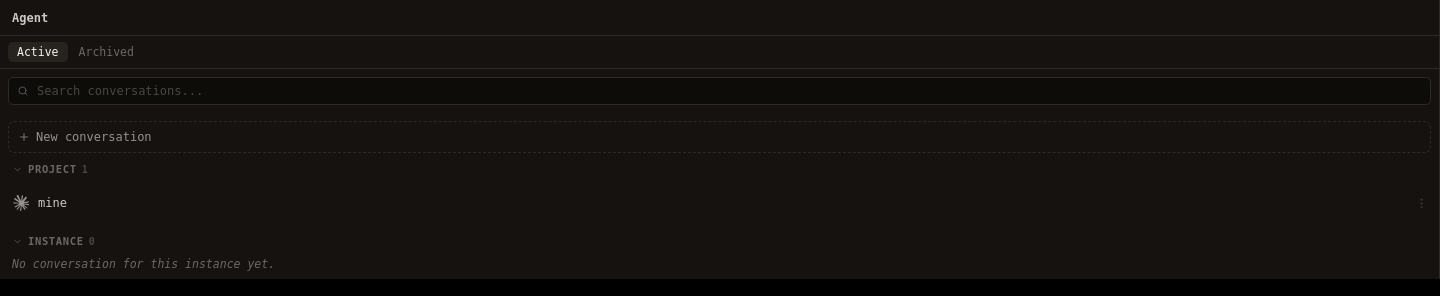
it: ConversationHistoryPanel › what a row shows › draws the archive entry with the glyph the icon rules animate
Step 1. Click the button titled "actions" → (1421, 203), box [1407,189,1435,217]
(page scrolled)
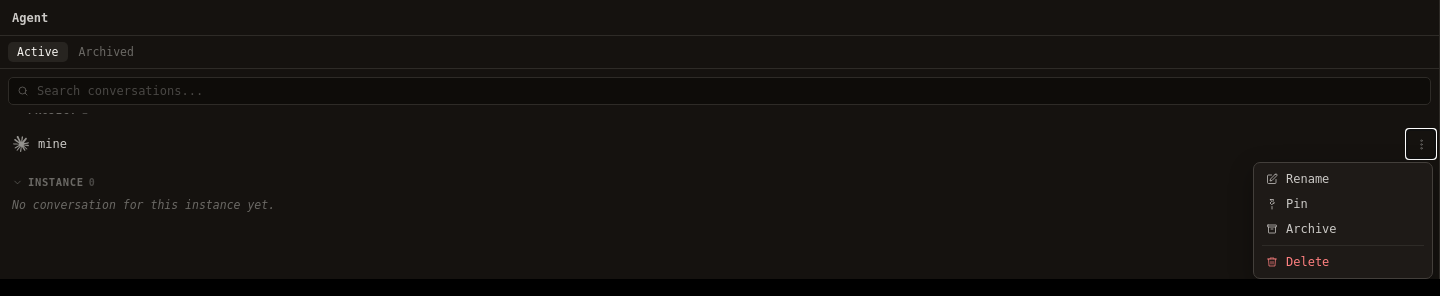
Expected: the element with class "ic-archive-lid" is shown, [1268,225,1276,227]
Expected: the icon with class "ic-archive" is shown, [1266,223,1278,235]
